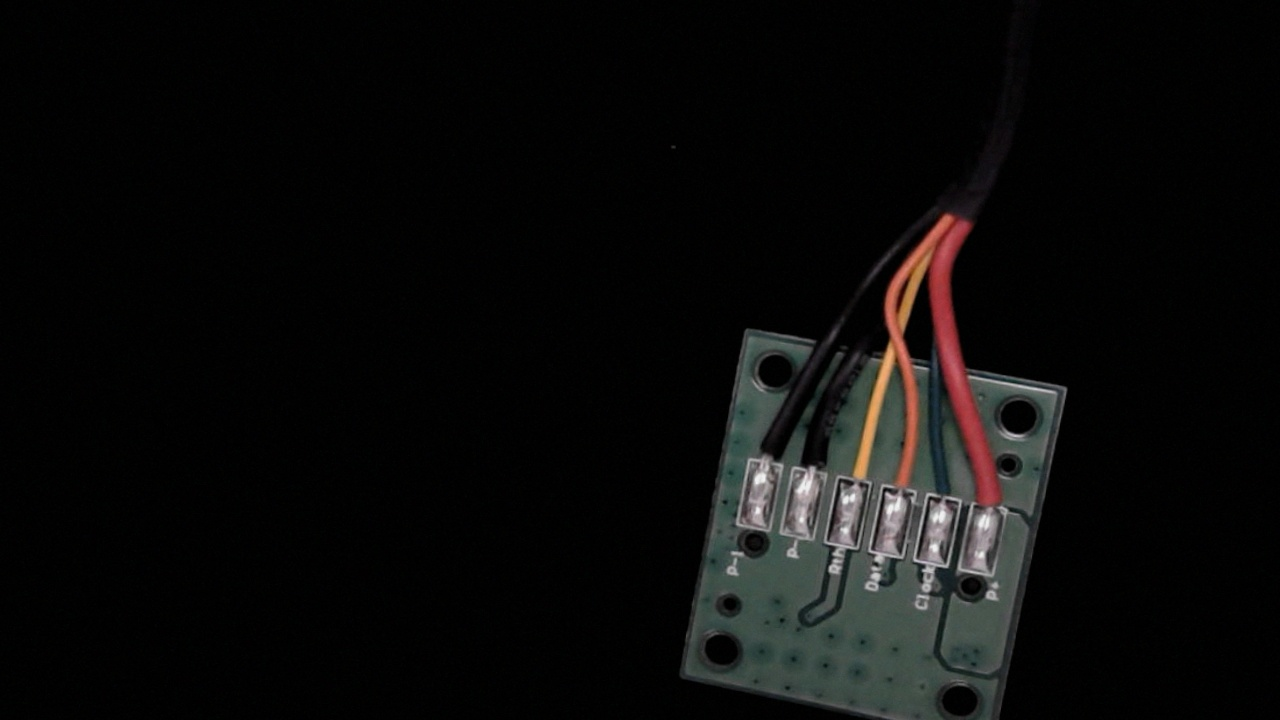Black: (789, 418, 837, 493)
Black1: (744, 404, 797, 487)
Green: (919, 450, 970, 519)
Orange: (883, 438, 927, 510)
Red: (966, 459, 1015, 526)
Yellow: (834, 427, 881, 503)
